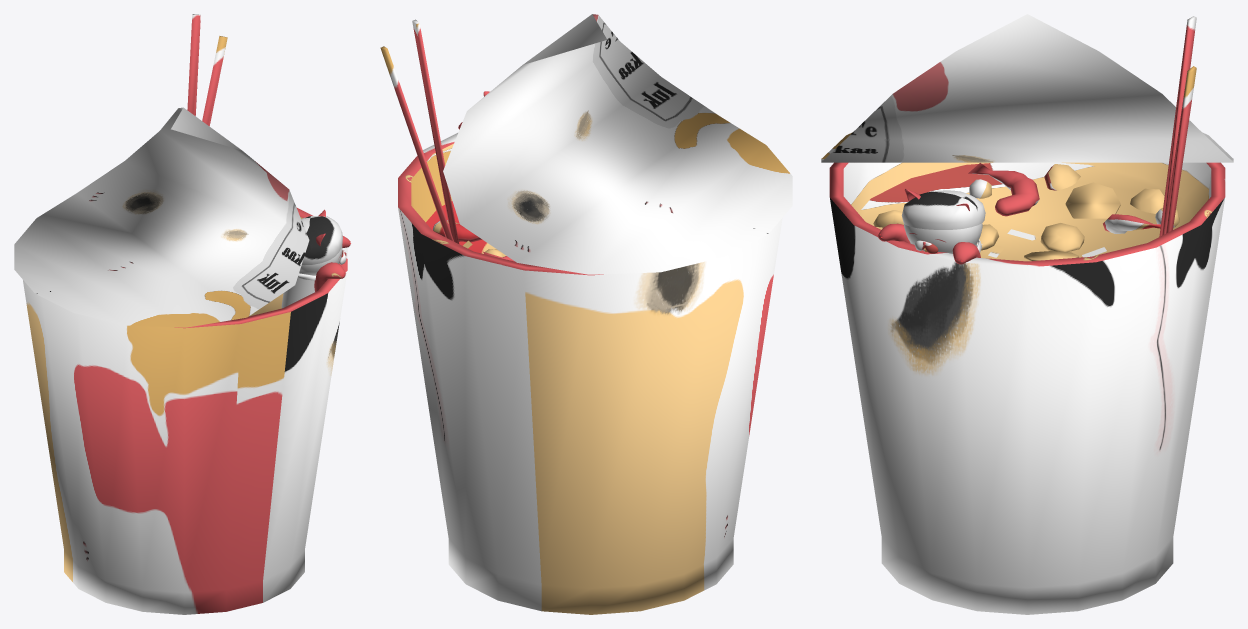
The model's file is cupramen_fix.fbx.
The picture shows the model from 3 angles, left to right: view 1: azimuth 30°, elevation 25°; view 2: azimuth 150°, elevation 25°; view 3: azimuth 270°, elevation 25°; orthographic projection. The views are drawn at different scales.
Visible parts, largest first — view 1: Object001; view 2: Object001; view 3: Object001.
Boxes of the visible parts, x1,y1,x2,y2 form: Object001: [14, 14, 350, 614]; Object001: [380, 14, 792, 614]; Object001: [821, 14, 1233, 614].
Size of the model in its own units: 42.82 by 66.97 by 43.05.
